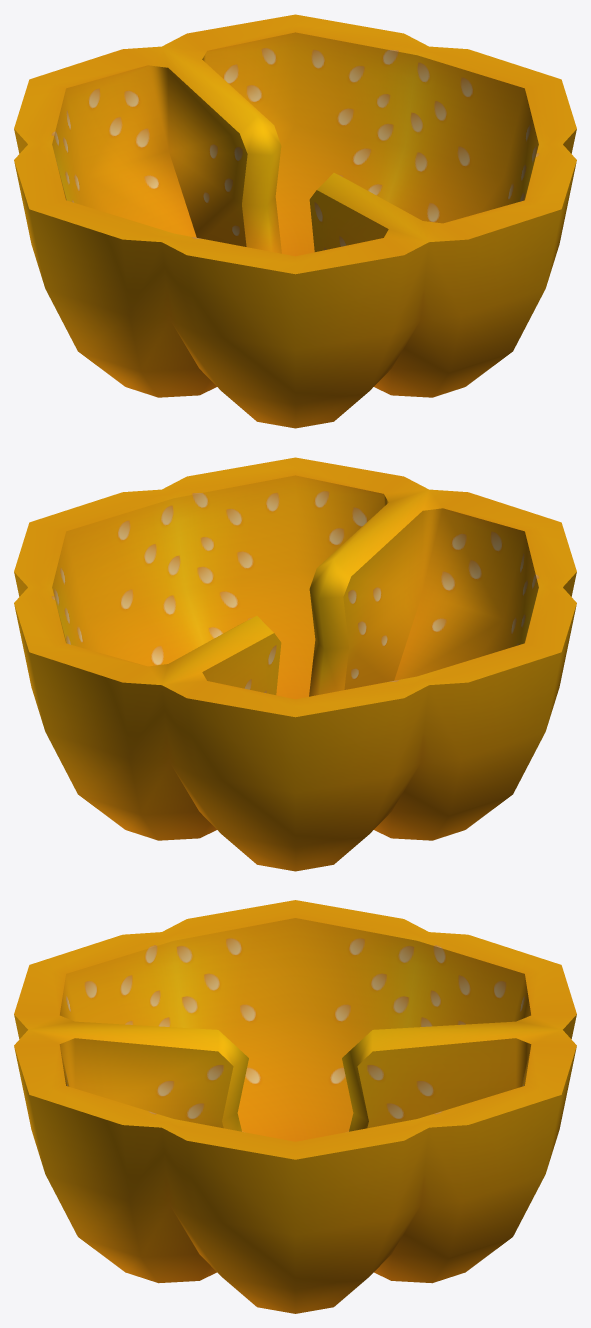
The model's file is Pepper_Y_Half_Bottom.fbx.
The picture shows the model from 3 angles, top to bottom: view 1: azimuth 30°, elevation 25°; view 2: azimuth 150°, elevation 25°; view 3: azimuth 270°, elevation 25°; orthographic projection.
Parts seen in each view (by area): view 1: Pepper_Y_Half_Botton; view 2: Pepper_Y_Half_Botton; view 3: Pepper_Y_Half_Botton.
Boxes of the visible parts, x1,y1,x2,y2 form: Pepper_Y_Half_Botton: (14,14,576,428); Pepper_Y_Half_Botton: (14,457,576,871); Pepper_Y_Half_Botton: (14,900,576,1313).
Size of the model in its own units: 2.3 by 0.8828 by 2.11.
